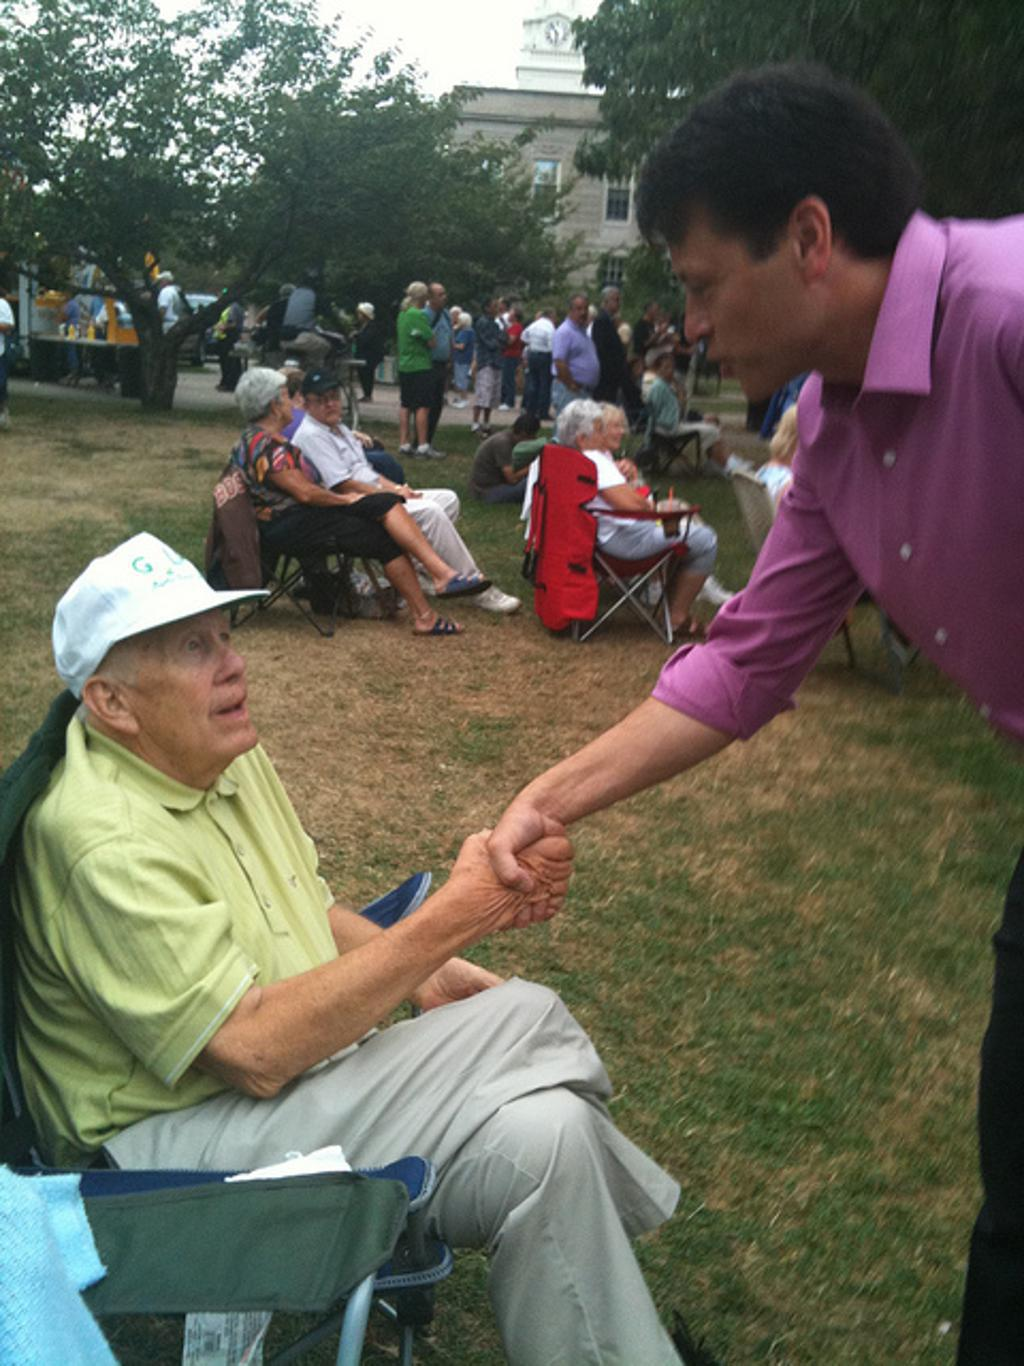face: (673, 227, 790, 402), (151, 623, 259, 760), (311, 392, 342, 424), (587, 421, 606, 452), (606, 420, 624, 450), (573, 299, 588, 325), (282, 387, 293, 423), (659, 359, 674, 380), (434, 286, 446, 308), (612, 291, 621, 312), (357, 308, 367, 324), (451, 311, 461, 324), (509, 310, 517, 323), (498, 301, 508, 312), (651, 305, 658, 318), (492, 303, 498, 316), (160, 277, 168, 286)
